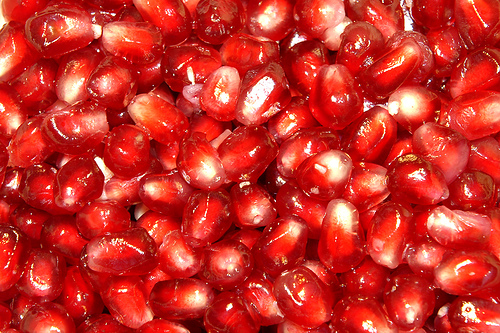pomogranate: (0, 2, 499, 332)
